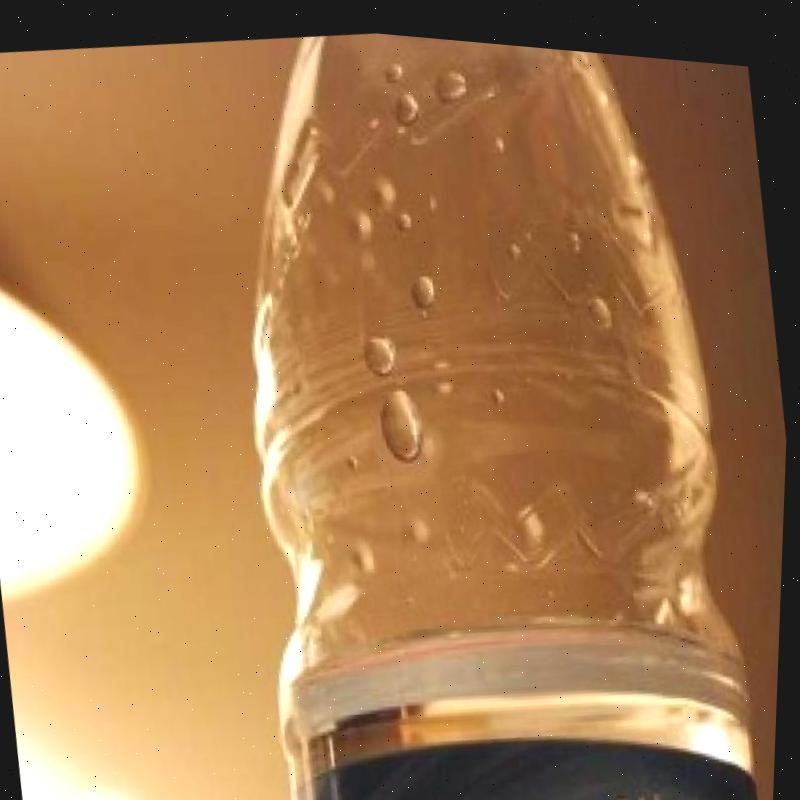botella: (190, 15, 795, 800)
